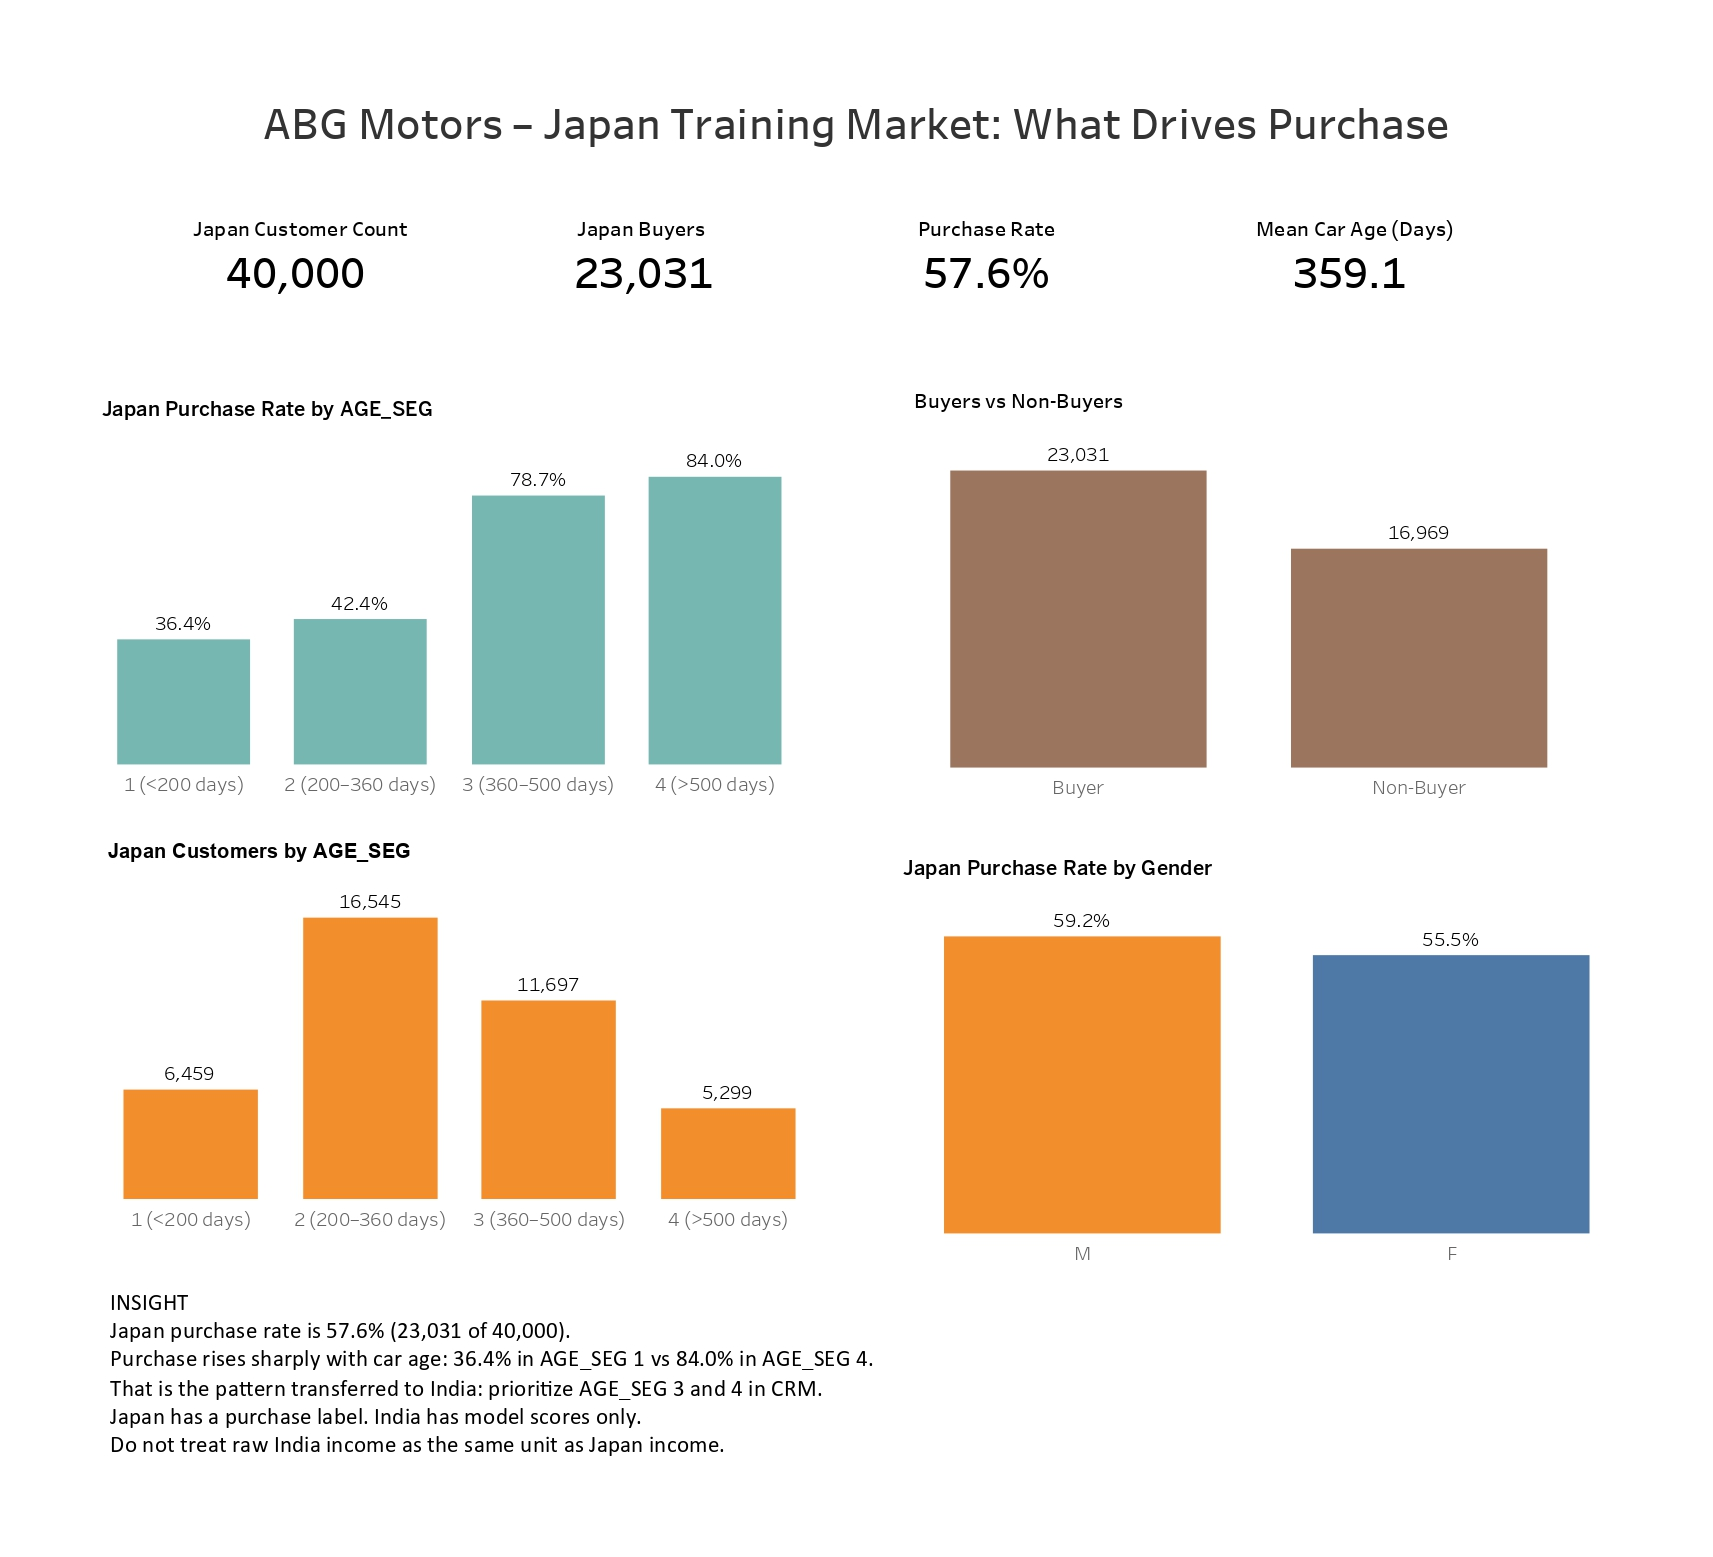

This screenshot's page, from the dashboard's own definition file:
{"tool":"tableau","page":{"name":"Dashboard 4","canvas":[1000,900],"ordinal":3},"visuals":[{"type":"title","box":[8,8,984,45]},{"type":"worksheet","title":"KPIs-4","mark":"Shape","cols":["Calculation_0849143314079757","Calculation_0849143314079757","Calculation_0849143314079757","Calculation_0849143314079757"],"box":[56,67,925,98]},{"type":"worksheet","title":"Buyers vs Non-Buyers","mark":"Automatic","rows":["Calculation_0849142933684224"],"cols":["Calculation_0849142938136577"],"box":[533,193,436,271]},{"type":"worksheet","title":"Japan Purchase Rate by AGE_SEG","mark":"Automatic","rows":["Calculation_0504720869982220"],"cols":["Calculation_0504720865075203"],"box":[13,200,453,281]},{"type":"worksheet","title":"Japan Customers by AGE_SEG","mark":"Automatic","rows":["Calculation_0849142933684224"],"cols":["Calculation_0504720865075203"],"box":[17,483,458,276]},{"type":"worksheet","title":"Japan Purchase Rate by Gender","mark":"Automatic","rows":["Calculation_0504720869982220"],"cols":["GENDER"],"box":[526,494,473,268]},{"type":"text","box":[20,772,899,121]}]}

Visuals, with their boxes in screenshot pixels (x1, y1, x2, y2), scaled from the page's 1000x900 canvas onto the 1713x1557 screenshot:
title: l=14, t=14, r=1699, b=92
"KPIs-4" worksheet (Shape marks): l=96, t=116, r=1680, b=285
"Buyers vs Non-Buyers" worksheet: l=913, t=334, r=1660, b=803
"Japan Purchase Rate by AGE_SEG" worksheet: l=22, t=346, r=798, b=832
"Japan Customers by AGE_SEG" worksheet: l=29, t=836, r=814, b=1313
"Japan Purchase Rate by Gender" worksheet: l=901, t=855, r=1711, b=1318
text: l=34, t=1336, r=1574, b=1545
